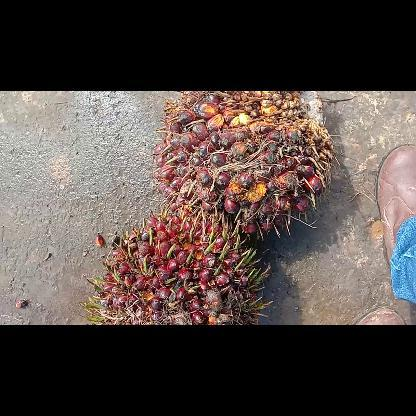Kurang masak: (86, 204, 270, 324)
TBS masak: (152, 90, 334, 238)
